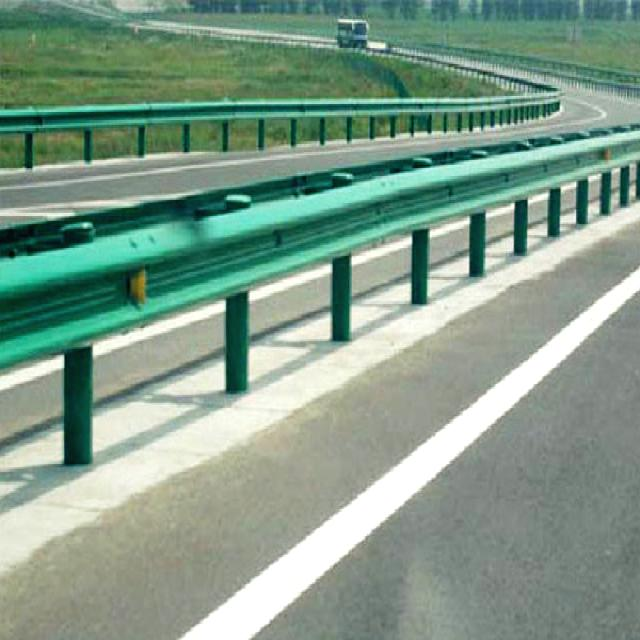Guard rail: (0, 130, 640, 367), (0, 88, 560, 166)
